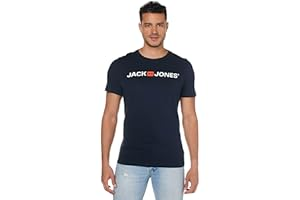design: (124, 68, 181, 80)
